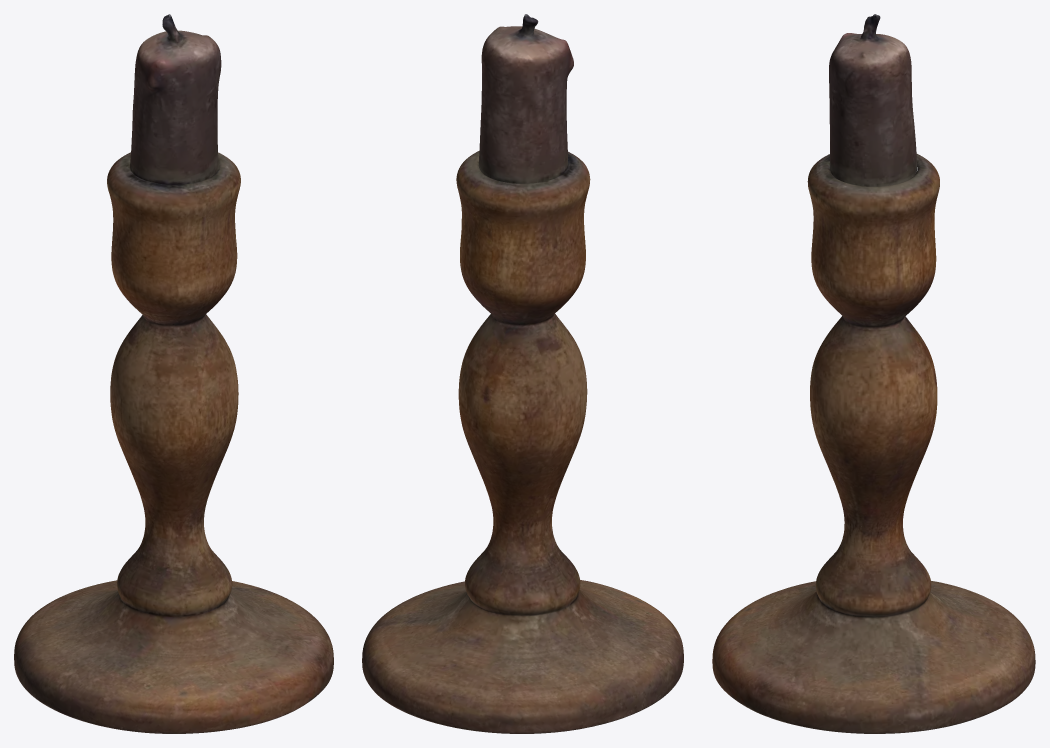
The model's file is wooden_candlestick.glb.
The picture shows the model from 3 angles, left to right: view 1: azimuth 30°, elevation 25°; view 2: azimuth 150°, elevation 25°; view 3: azimuth 270°, elevation 25°; orthographic projection.
Visible parts, largest first — view 1: wooden_candlestick; view 2: wooden_candlestick; view 3: wooden_candlestick.
Boxes of the visible parts, x1,y1,x2,y2 form: wooden_candlestick: [14, 14, 333, 733]; wooden_candlestick: [362, 14, 683, 733]; wooden_candlestick: [712, 14, 1035, 733].
Size of the model in its own units: 0.0972 by 0.2197 by 0.0987.
Materials: 1 (1 with a texture image).
